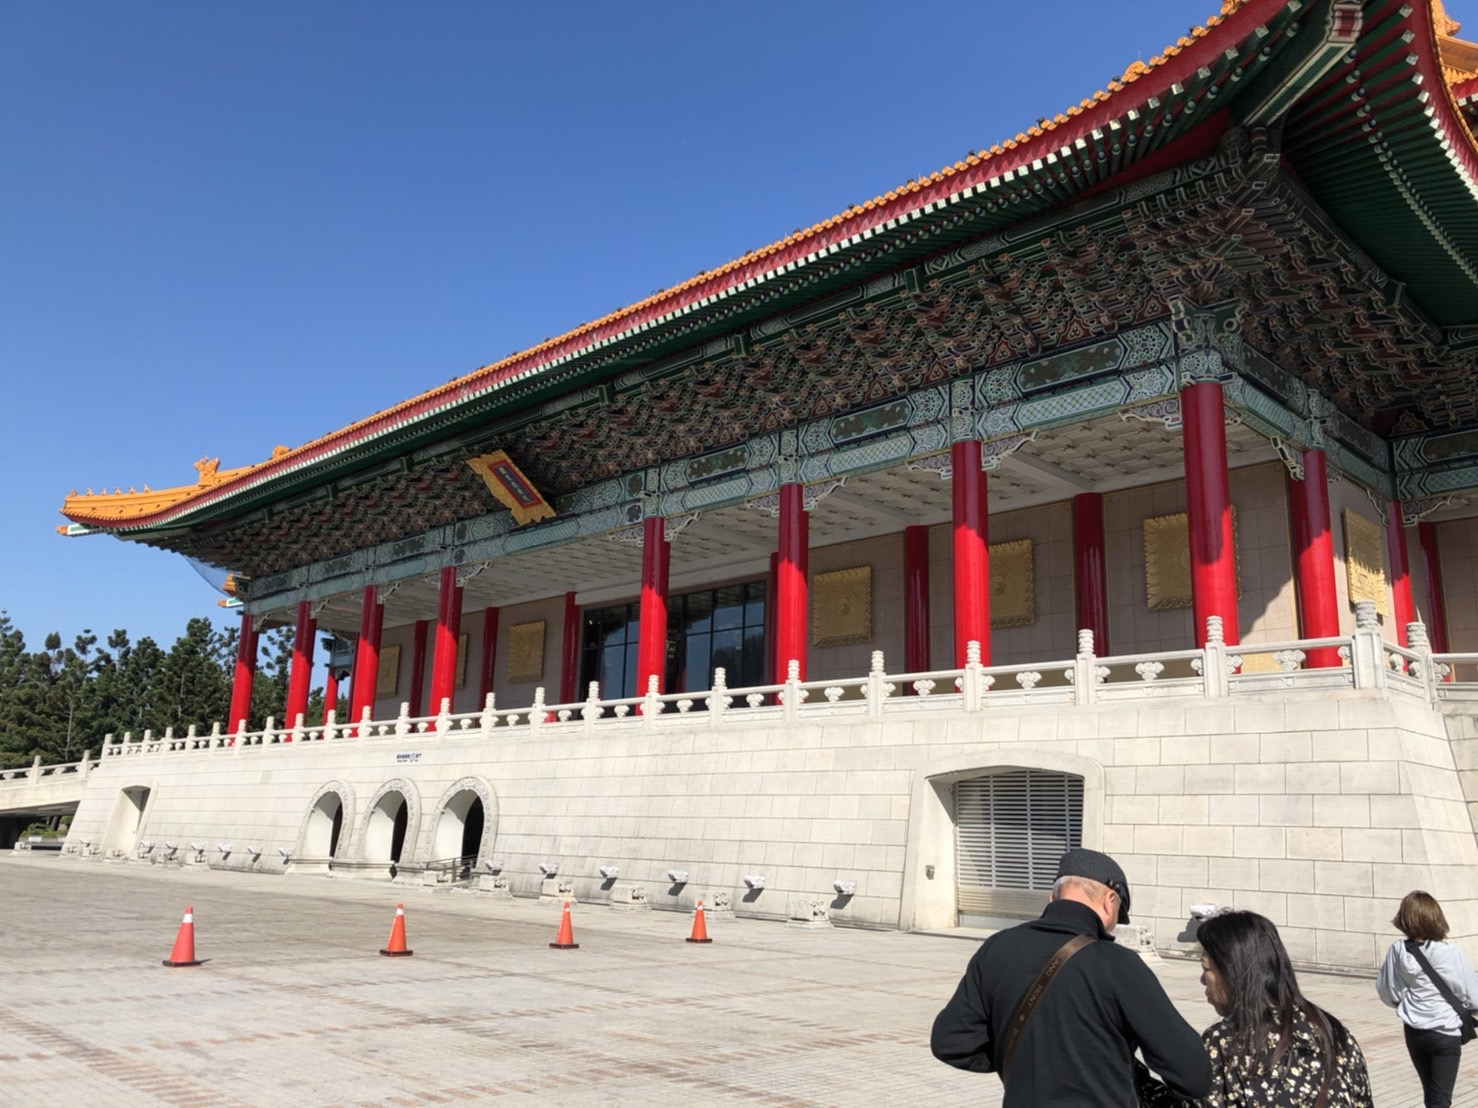female: (1191, 905, 1377, 1108), (1373, 886, 1478, 1108)
male: (932, 847, 1202, 1108)
